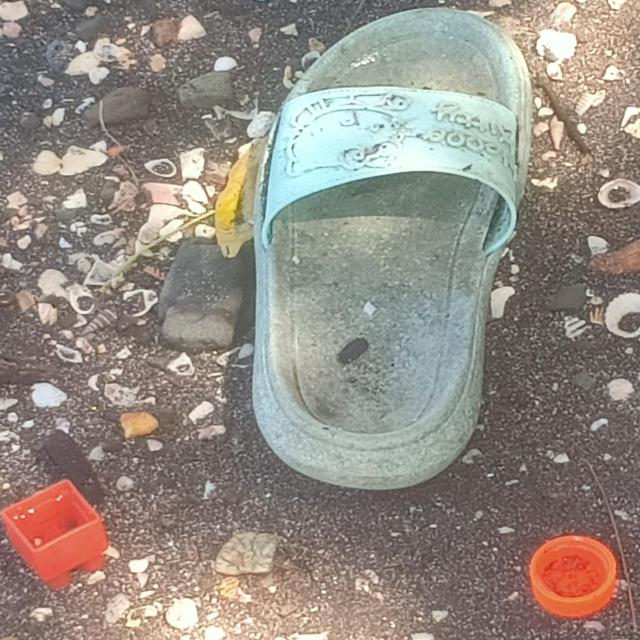plastic_waste: (1, 481, 109, 593), (530, 532, 622, 620)
rubber_waste: (254, 2, 540, 492)
